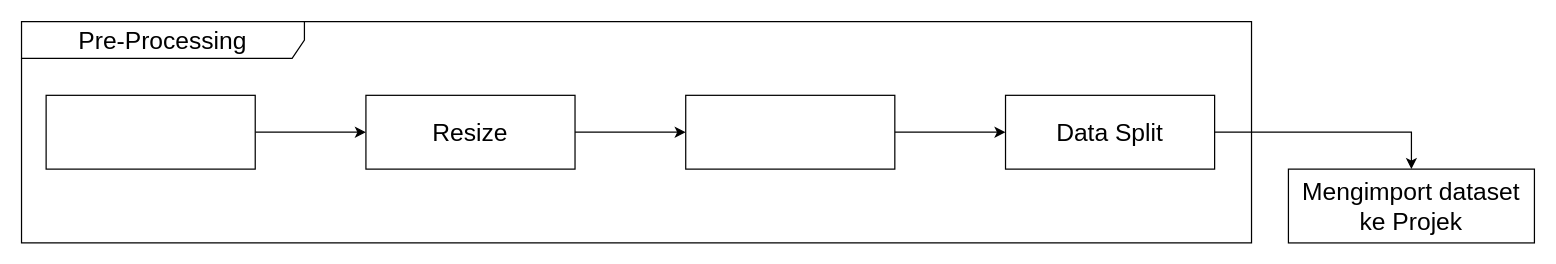
This 1556x264 diagram has some shape labels left out. The centre of each missing label's shape, as x and y in pixels:
"Augmentasi" goes at pixel 789 131.
"Labeling" goes at pixel 150 131.
